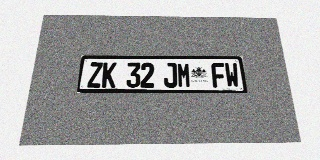2: (140, 62, 154, 88)
3: (126, 62, 141, 88)
F: (211, 63, 226, 88)
J: (164, 63, 177, 88)
K: (101, 62, 117, 88)
M: (177, 63, 191, 88)
W: (224, 63, 240, 88)
Z: (87, 62, 103, 88)
